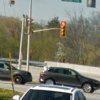Traffic light: (51, 15, 71, 47)
